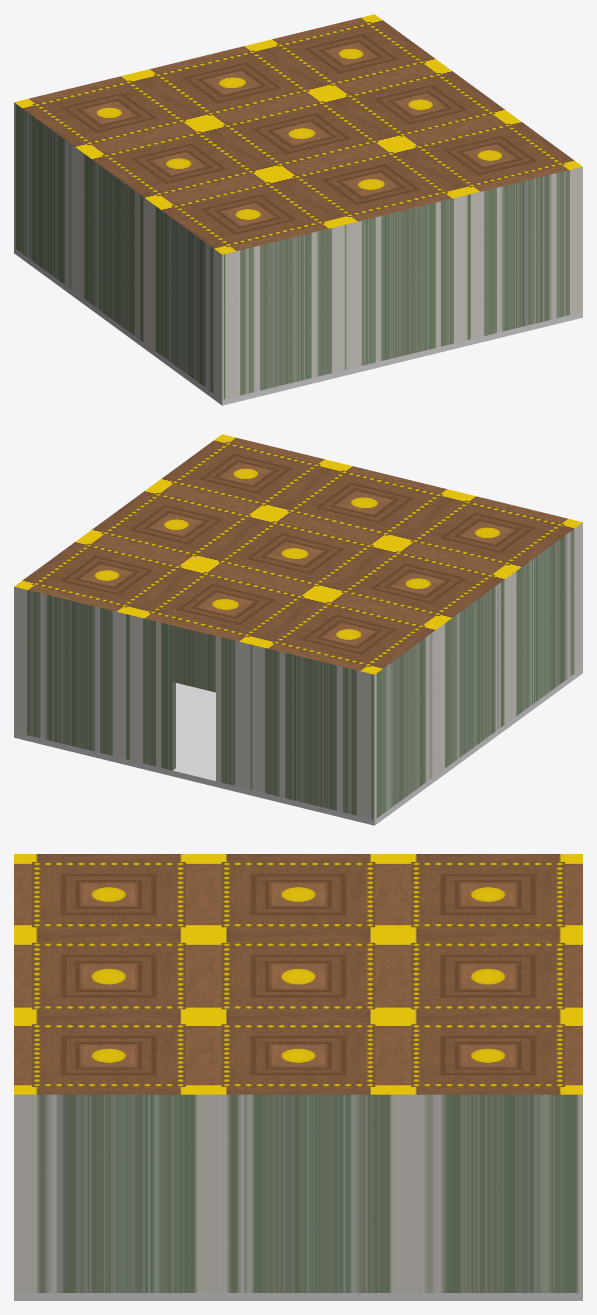
File: decorated2.fbx
The picture shows the model from 3 angles, top to bottom: view 1: azimuth 30°, elevation 25°; view 2: azimuth 150°, elevation 25°; view 3: azimuth 270°, elevation 25°; orthographic projection. The views are drawn at different scales.
Visible parts, largest first — view 1: Plane; view 2: Plane; view 3: Plane.
Boxes of the visible parts, x1,y1,x2,y2 form: Plane: (14,14,582,405); Plane: (14,434,582,825); Plane: (14,854,582,1300).
Size of the model in its own units: 1000 by 400 by 1000.
Materials: 4 (2 with a texture image).
